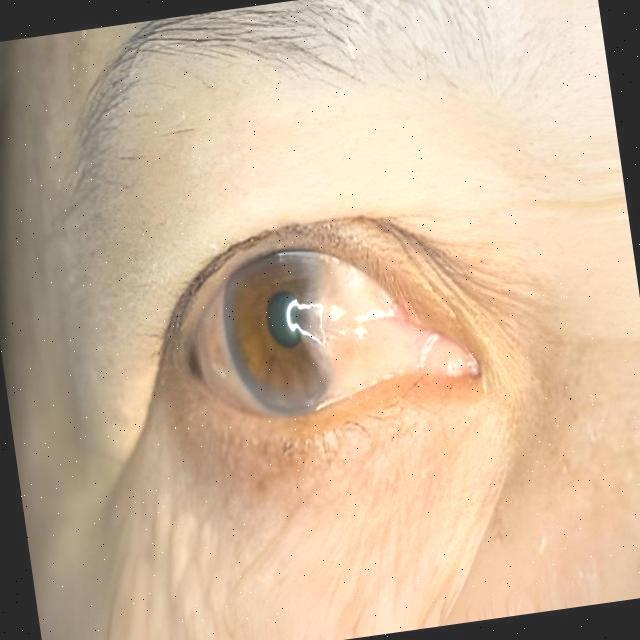Pterygium: (284, 242, 459, 404)
